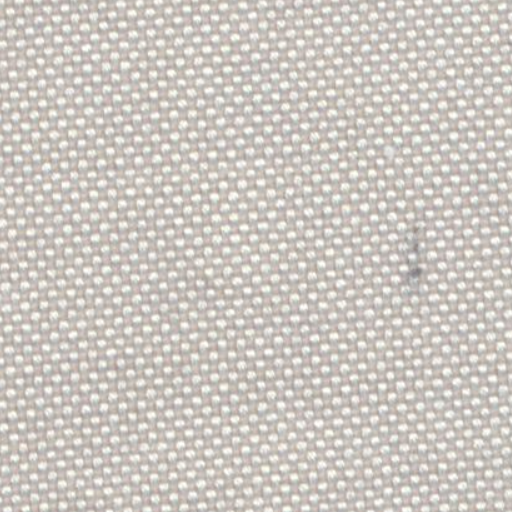WuZi: (380, 207, 444, 314)
